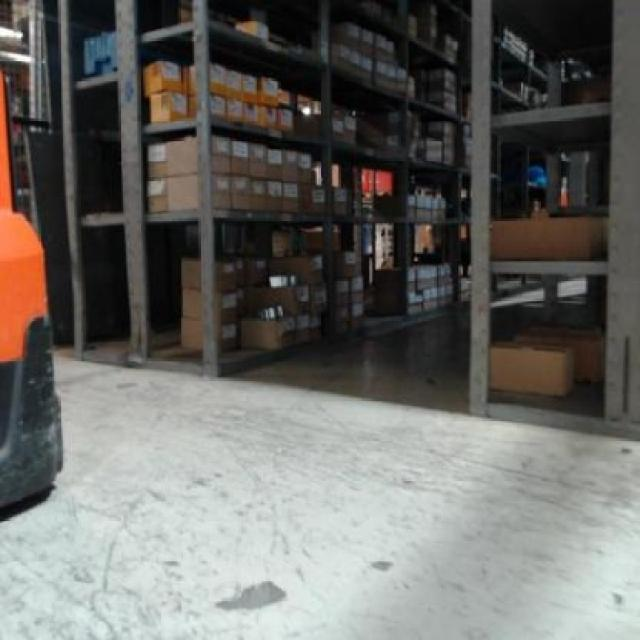floor: (0, 355, 637, 637)
